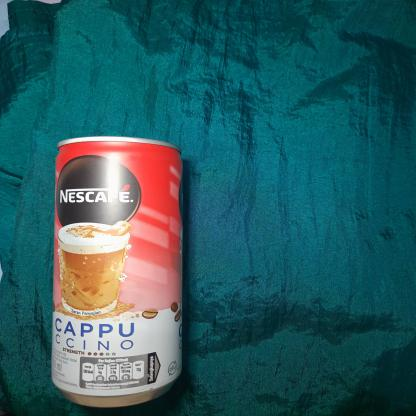can: (44, 134, 184, 416)
